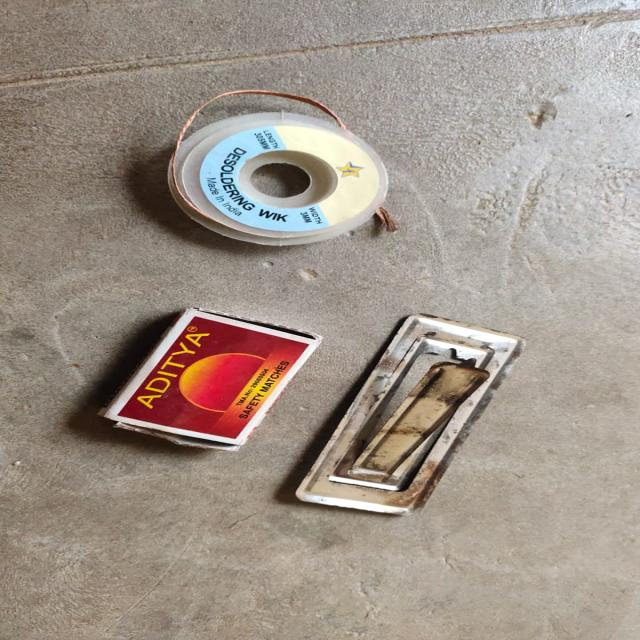metal: (320, 313, 510, 547)
paper: (107, 287, 296, 485)
plastic: (169, 103, 435, 260)
